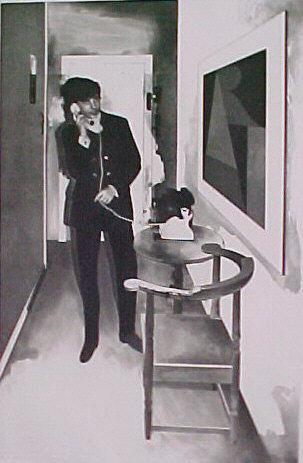person: (57, 79, 148, 368)
